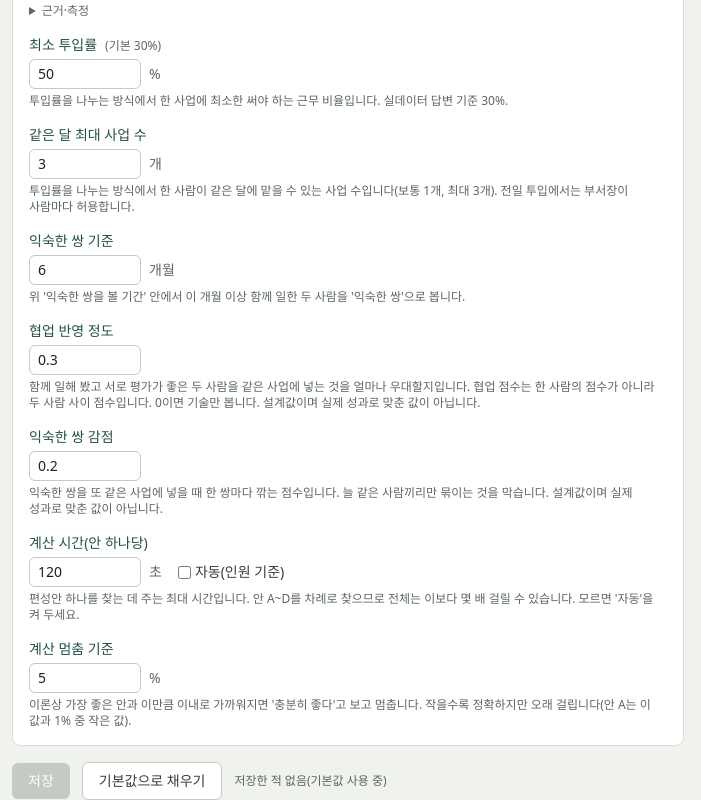
Test: SettingsTab › 기본값으로 채우기는 서버 기본값을 폼에 넣는다(저장은 따로)
The width and height of the screenshot is (701, 800).
(page scrolled)
Click the button "기본값으로 채우기". click: (152, 781)
box: [82, 762, 222, 799]
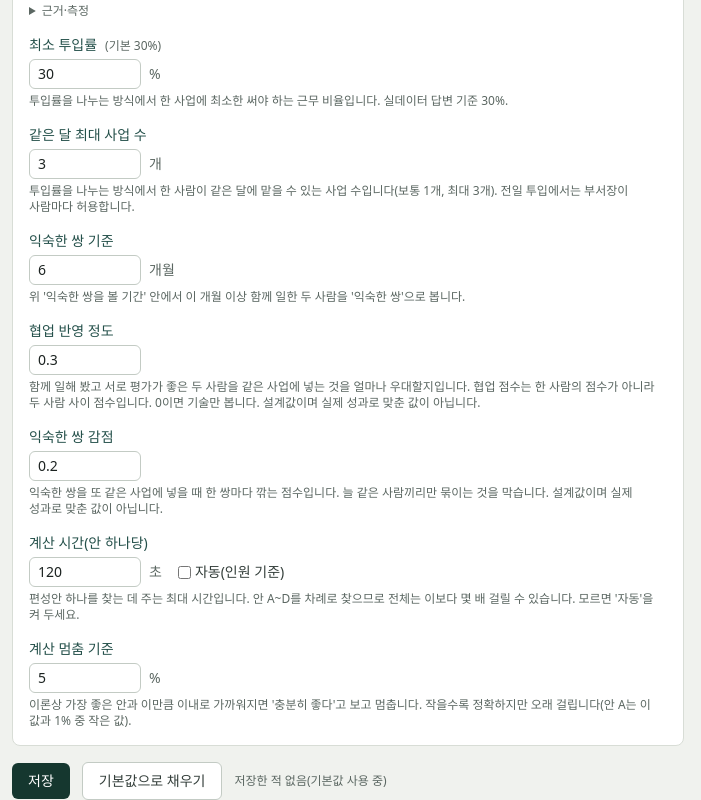
Expected: the field labelled "최소 투입률(기본 30%)" holds "30", [29, 59, 141, 89]
